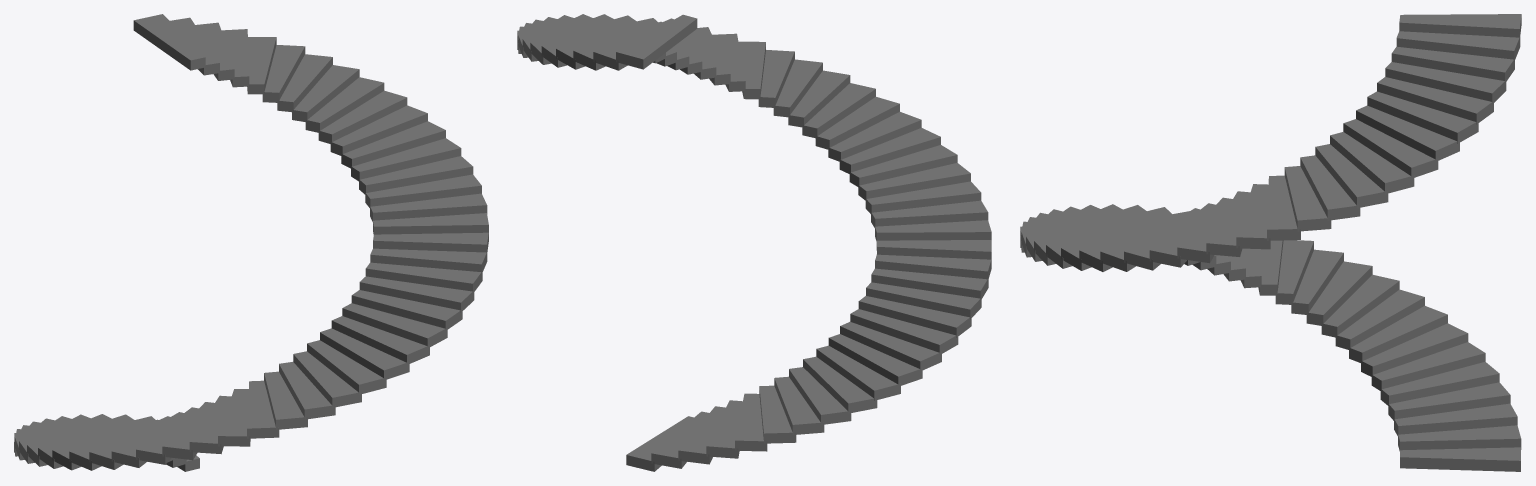
File: stairs.fbx
3 renders of one model, left to right at view 1: azimuth 30°, elevation 25°; view 2: azimuth 150°, elevation 25°; view 3: azimuth 270°, elevation 25°, orthographic. The views are drawn at different scales.
Visible parts, largest first — view 1: stairs_Baked; view 2: stairs_Baked; view 3: stairs_Baked.
Part boxes in pixels (x1,y1,x2,y2): stairs_Baked: (14, 14, 488, 471); stairs_Baked: (517, 14, 991, 471); stairs_Baked: (1020, 14, 1521, 471).
Bounding box in the file's own units: 1871 × 1763 × 1785.
1 material, 1 textured.
